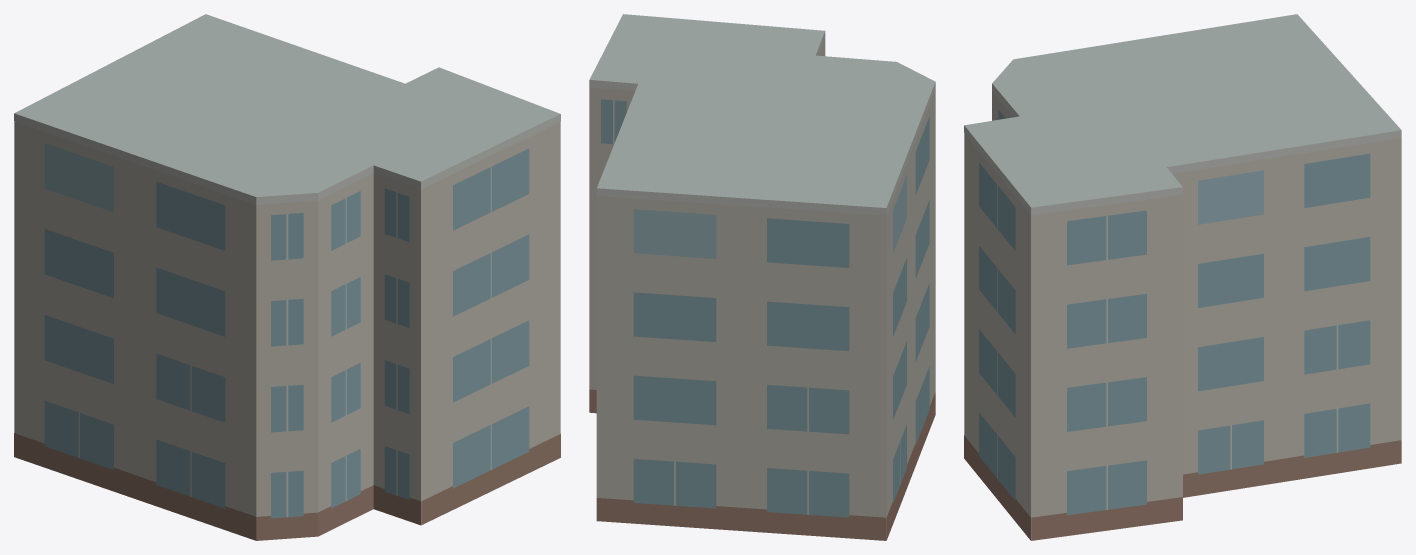
Rendered from survey-upis-32855404.glb.
3 views of the same model, side by side, from view 1: azimuth 30°, elevation 25°; view 2: azimuth 150°, elevation 25°; view 3: azimuth 270°, elevation 25° (orthographic). The views are drawn at different scales.
Parts seen in each view (by area): view 1: survey-upis-32855404.tmp; view 2: survey-upis-32855404.tmp; view 3: survey-upis-32855404.tmp.
Part boxes in pixels (box(x1,y1,x2,y2)): survey-upis-32855404.tmp: box(14, 14, 560, 540); survey-upis-32855404.tmp: box(589, 14, 935, 540); survey-upis-32855404.tmp: box(964, 14, 1401, 540).
Bounding box in the file's own units: 13.42 × 10.76 × 12.81.
